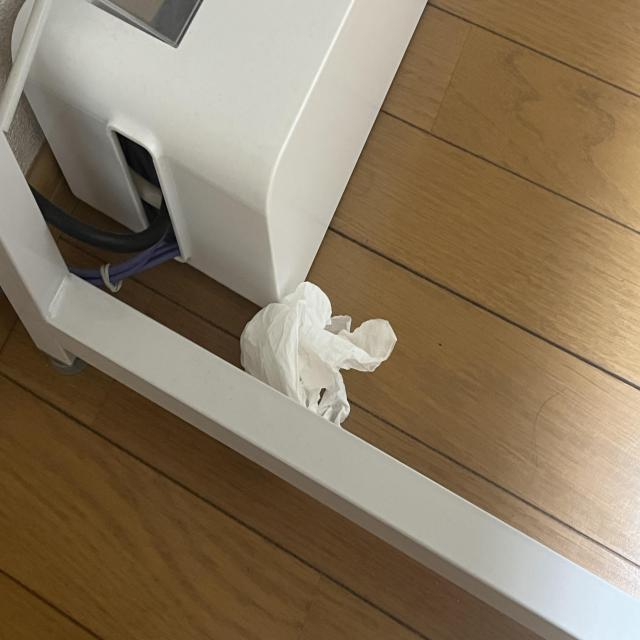衛生紙: (238, 278, 400, 427)
